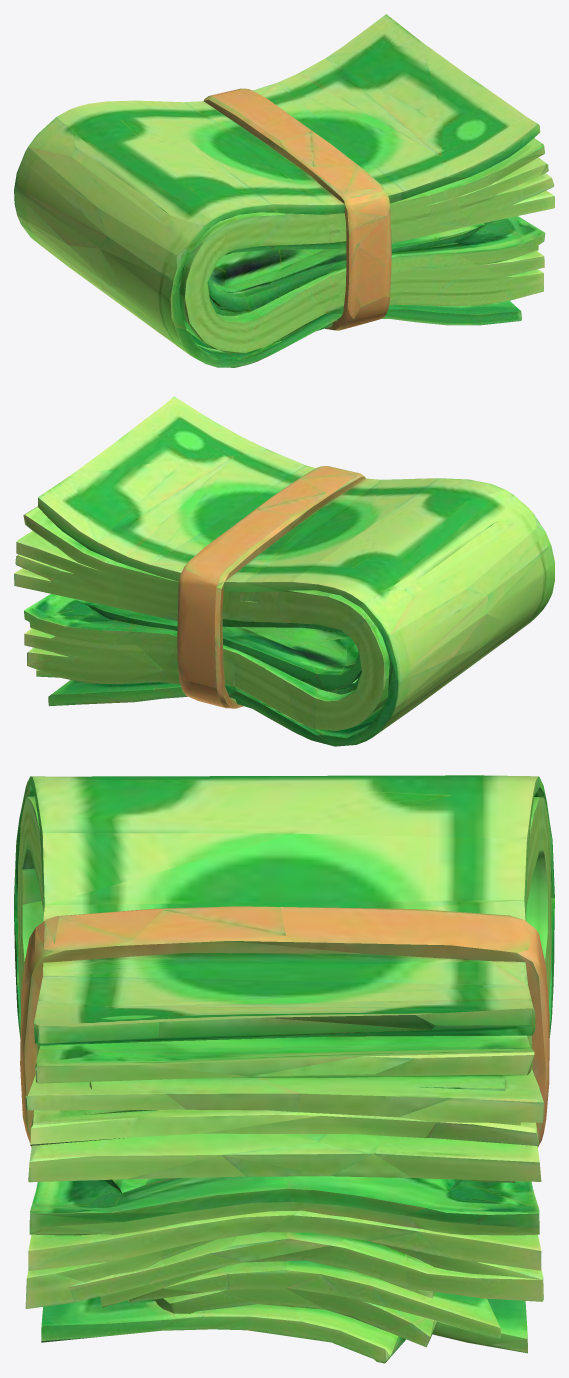
The model's file is billwad.glb.
The picture shows the model from 3 angles, top to bottom: view 1: azimuth 30°, elevation 25°; view 2: azimuth 150°, elevation 25°; view 3: azimuth 270°, elevation 25°; orthographic projection. The views are drawn at different scales.
Size of the model in its own units: 1.9 by 0.9644 by 1.34.
Materials: 1 (1 with a texture image).
